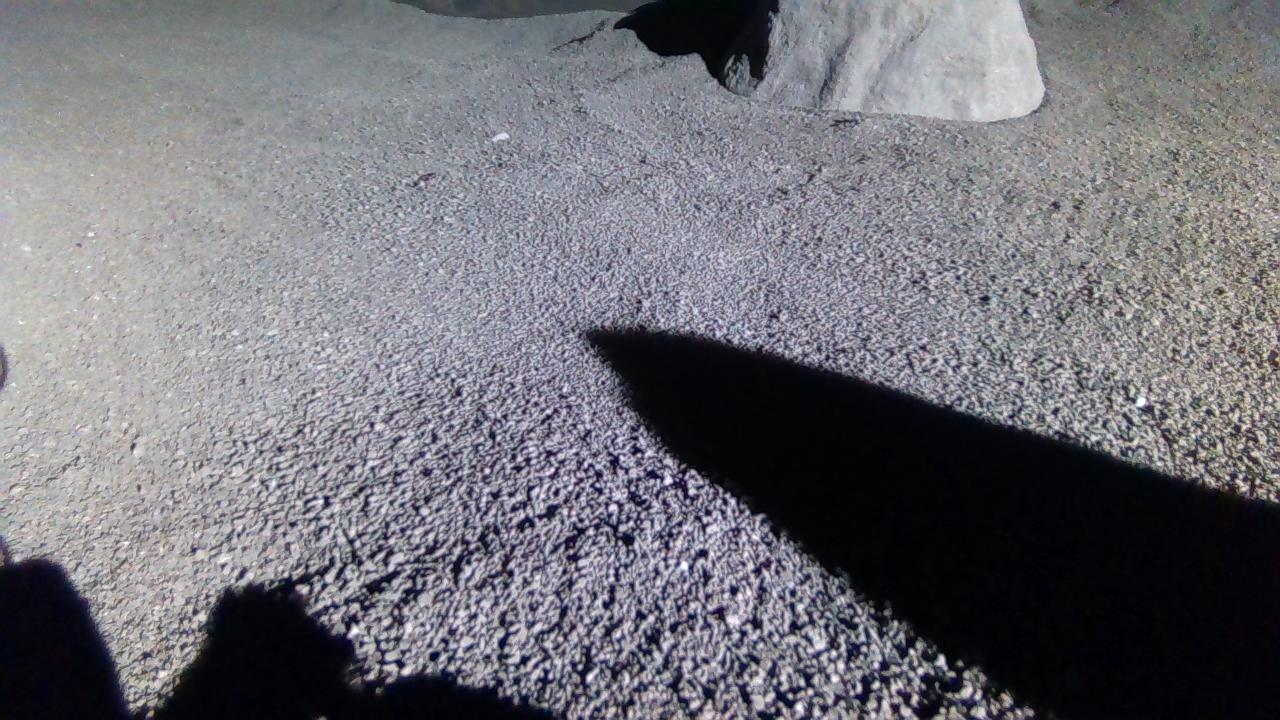rock: (724, 0, 1047, 120)
